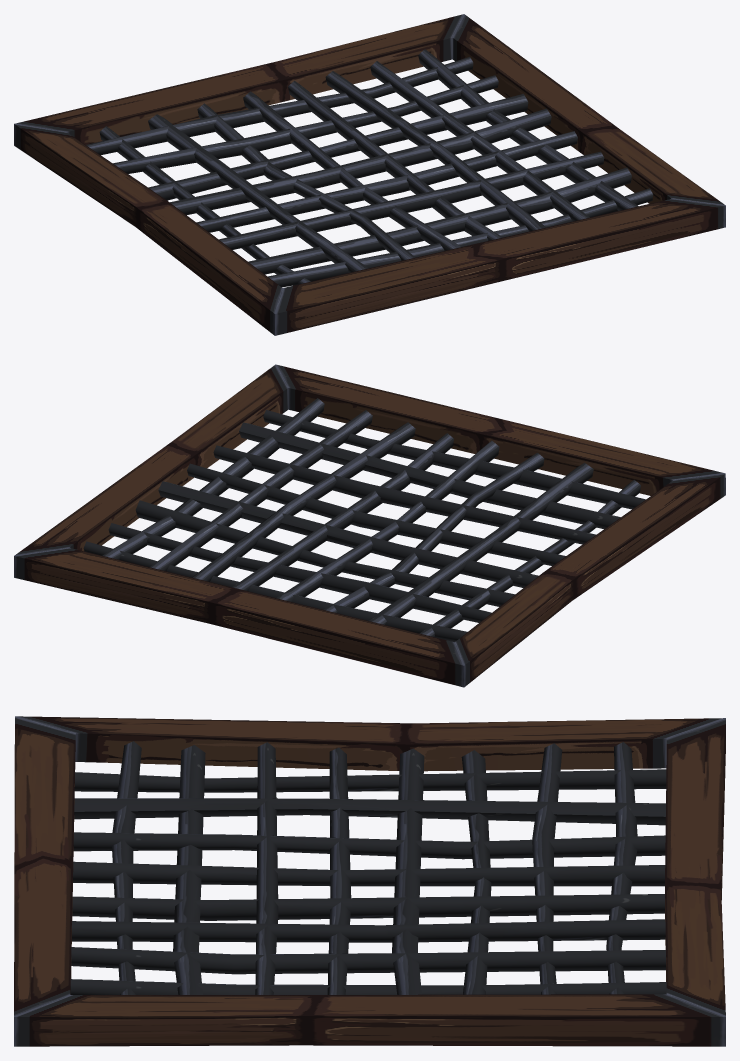
File: SM_PROP_trap_floor_dungeon_03.fbx
3 views of the same model, one above another, from view 1: azimuth 30°, elevation 25°; view 2: azimuth 150°, elevation 25°; view 3: azimuth 270°, elevation 25° (orthographic). The views are drawn at different scales.
Visible parts, largest first — view 1: SM_PROP_trap_floor_dungeon_03; view 2: SM_PROP_trap_floor_dungeon_03; view 3: SM_PROP_trap_floor_dungeon_03.
Part boxes in pixels (x1,y1,x2,y2): SM_PROP_trap_floor_dungeon_03: (14, 14, 725, 335); SM_PROP_trap_floor_dungeon_03: (14, 364, 725, 687); SM_PROP_trap_floor_dungeon_03: (14, 716, 725, 1046).
Size of the model in its own units: 401 by 22.84 by 404.
